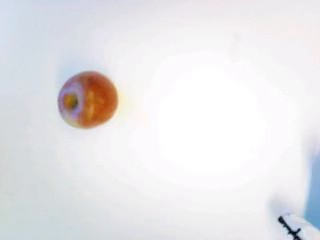apple: (57, 71, 121, 128)
